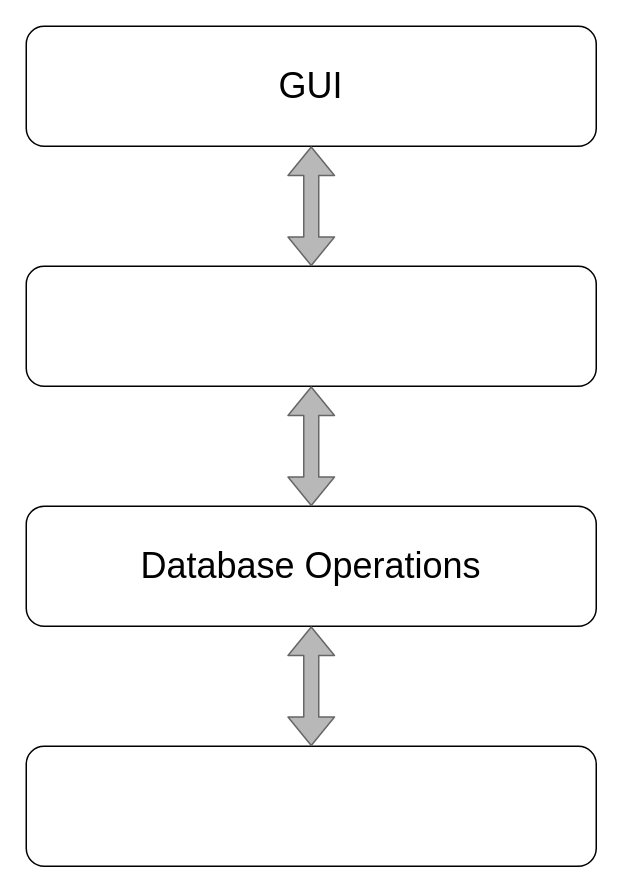
The diagram is 623 pixels wide and 893 high, and some of its shapes have lost their labels. The box of each missing label's shape, as (x1, y1, x2, y2) in pixels:
Database Server: (25, 745, 596, 866)
Question Manager: (25, 265, 596, 386)
